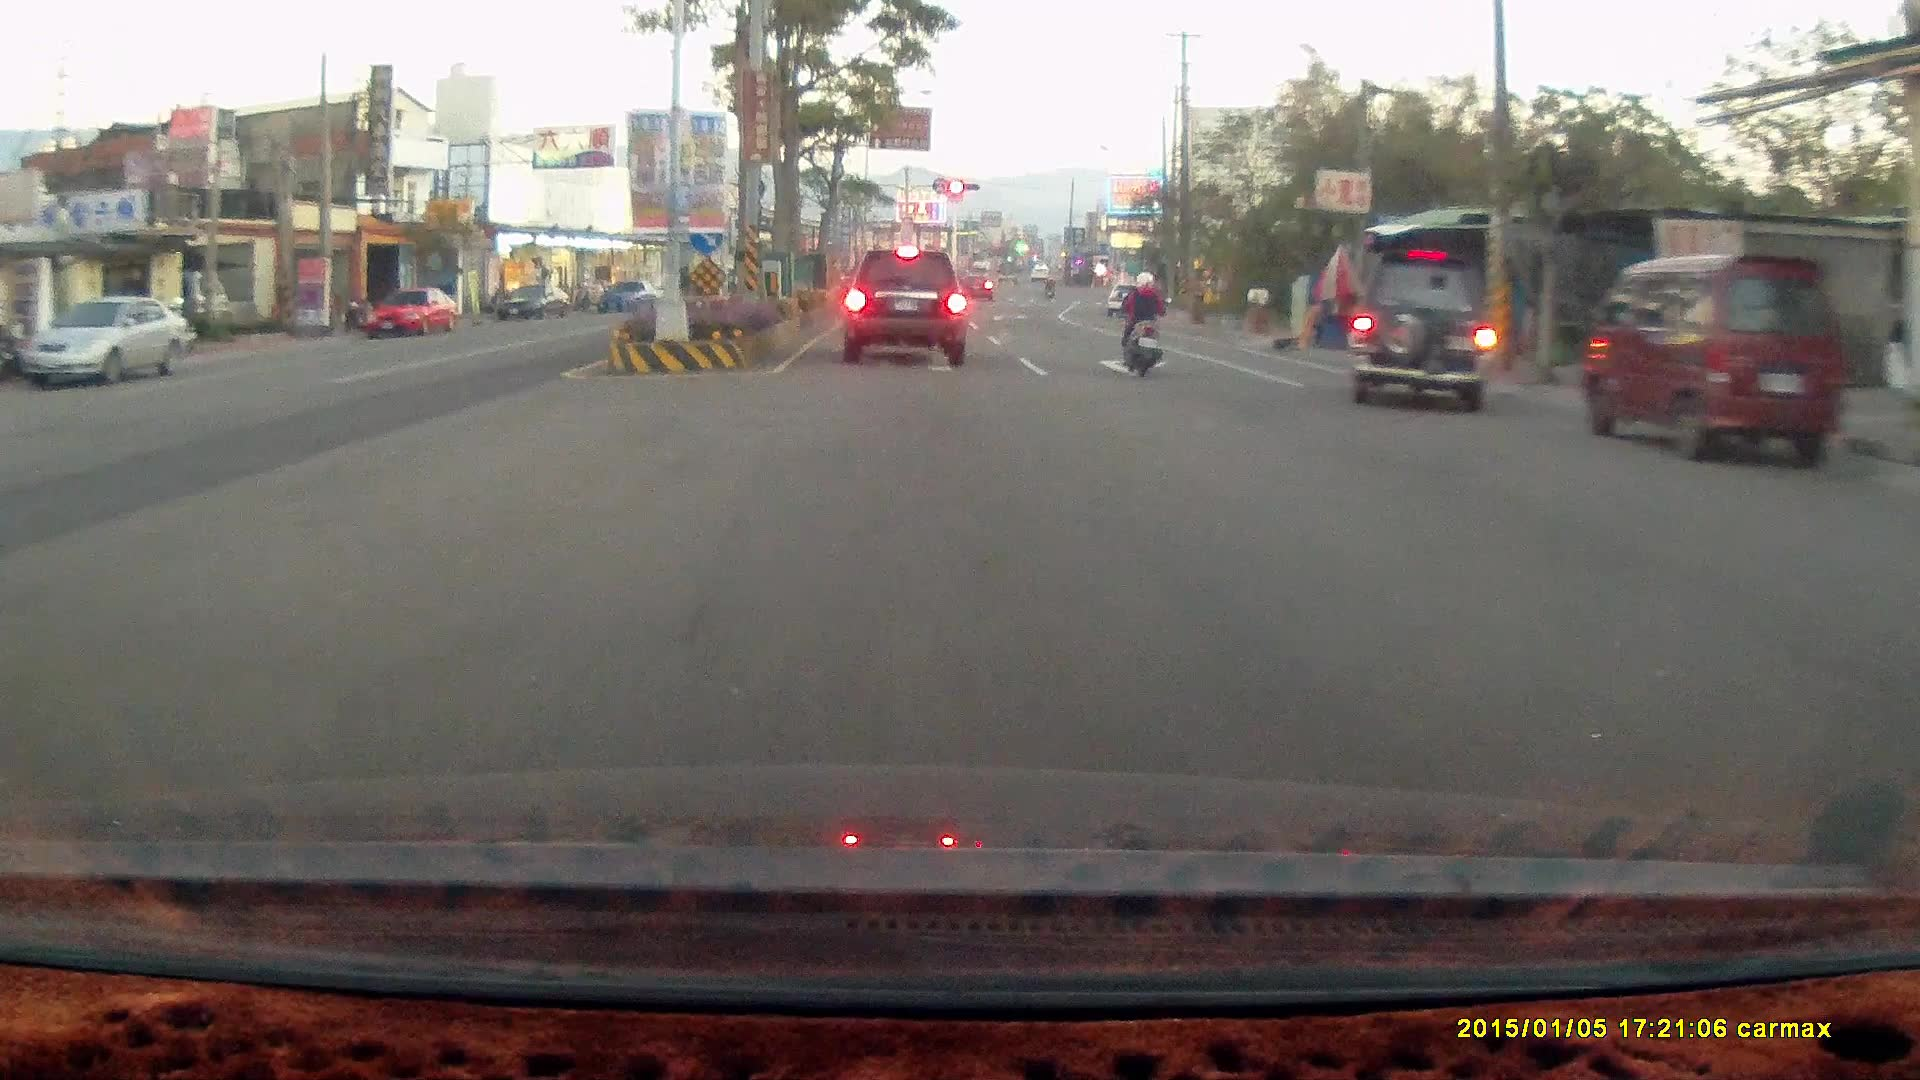rider: (1118, 269, 1168, 378)
vehicle: (1577, 253, 1843, 468), (1581, 257, 1847, 470), (1347, 255, 1508, 423), (1344, 247, 1495, 414), (20, 295, 188, 394), (20, 294, 188, 387), (840, 247, 965, 365), (1896, 493, 1920, 836), (1883, 528, 1920, 690), (364, 286, 462, 339), (362, 286, 460, 337), (1106, 284, 1154, 319)
